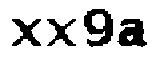9: (81, 6, 116, 48)
a: (117, 15, 150, 50)
x: (9, 16, 44, 48), (44, 16, 78, 48)
